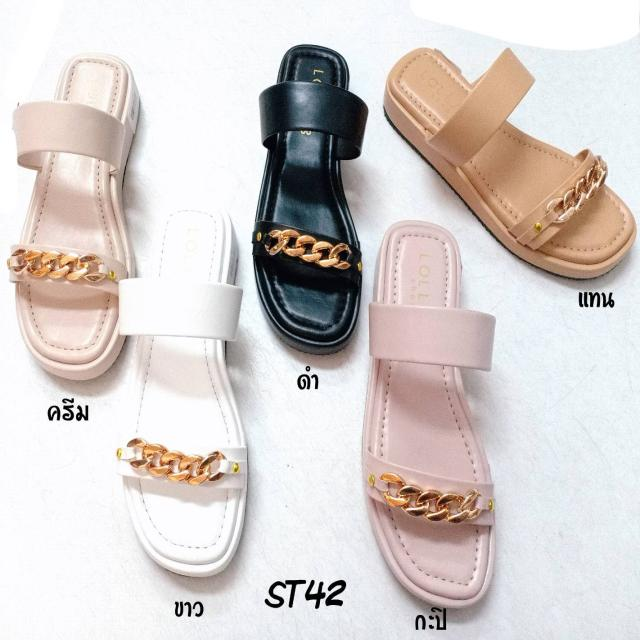black: (257, 44, 359, 348)
cream: (20, 56, 138, 378)
kapi: (363, 222, 498, 600)
tan: (384, 50, 640, 282)
white: (119, 201, 246, 574)
